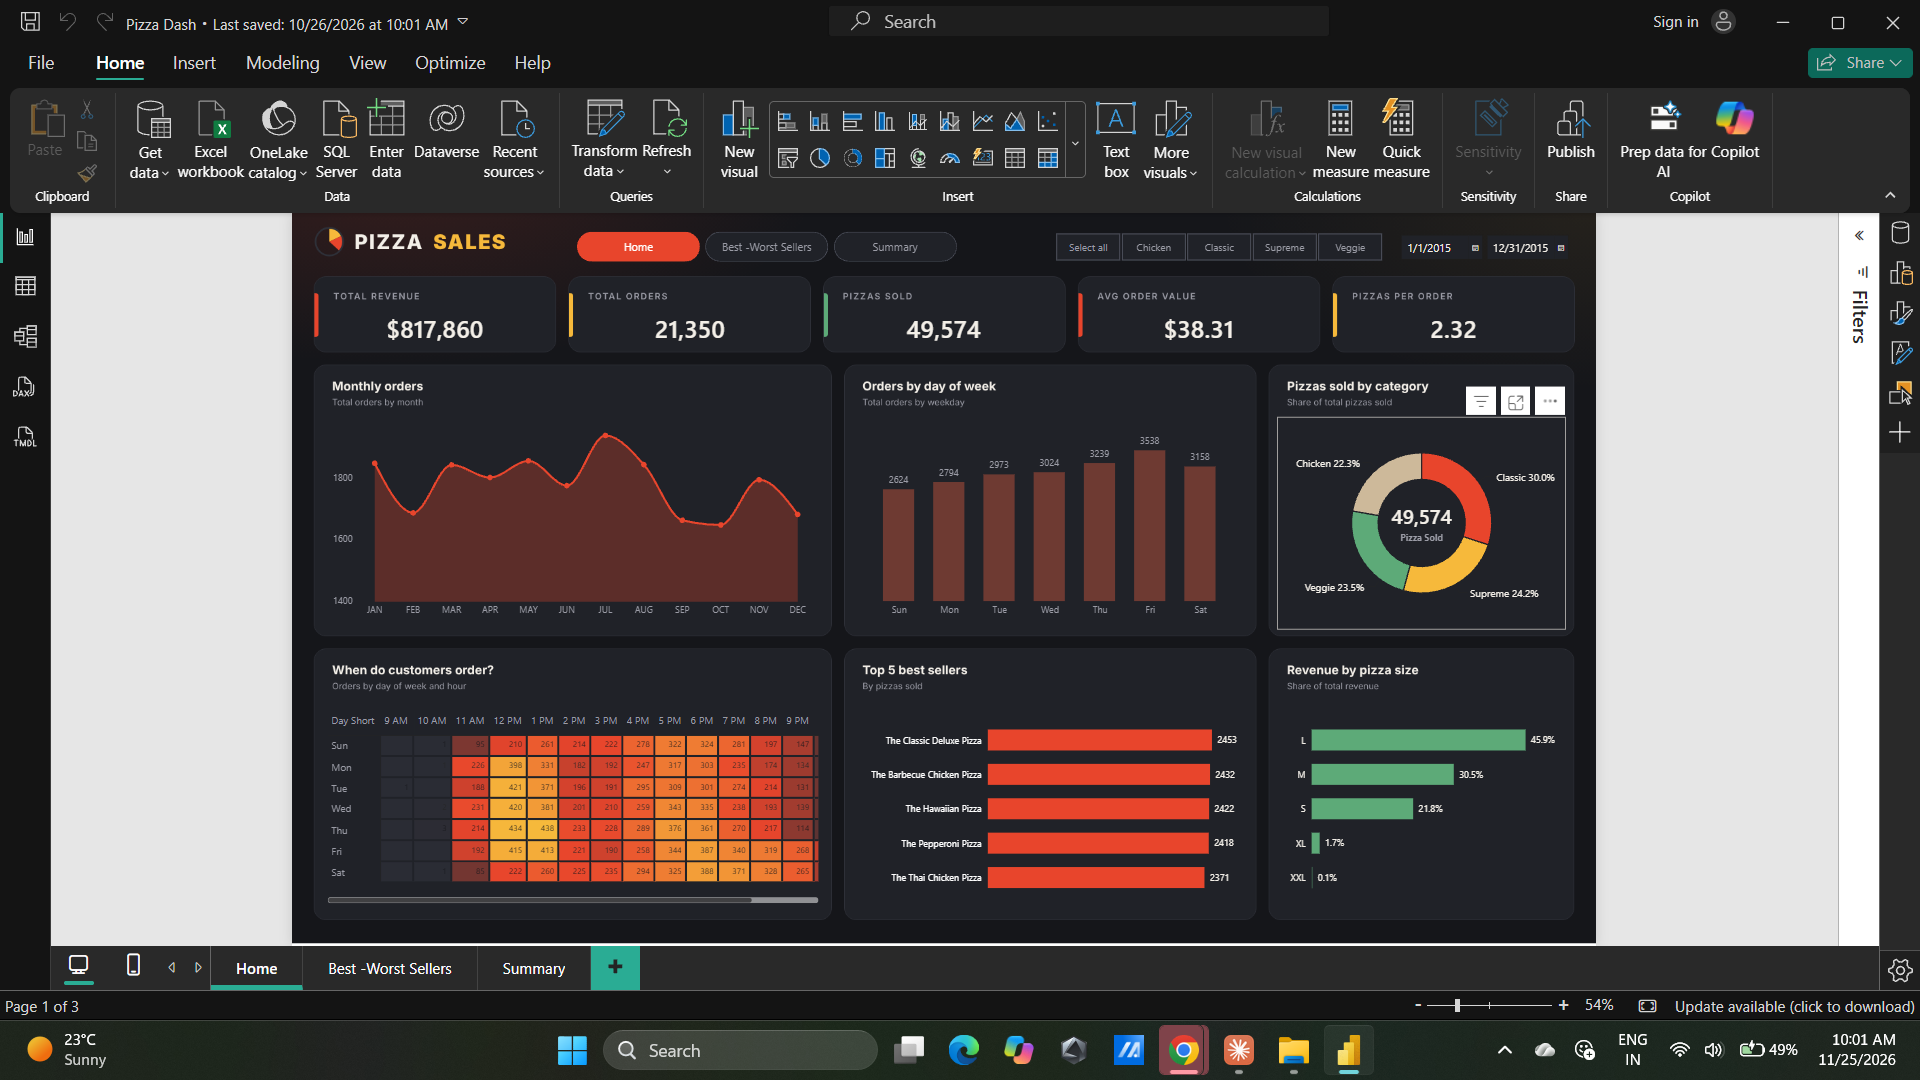

Layout of this report page (visuals, bound fields, positions):
{"tool":"powerbi","page":{"name":"Home ","canvas":[1920,1080],"ordinal":0},"visuals":[{"type":"donutChart","title":"Pizza Sold By Category ","fields":{"Category":["Dim_Pizza.pizza_category"],"Y":["Measure Table.Total Pizzas Sold"]},"box":[1450,300,426,314],"z":0},{"type":"clusteredBarChart","title":"Revenue By Pizza Size ","fields":{"Category":["Dim_Pizza.pizza_size"],"Y":["Measure Table.Revenue % of Total"]},"box":[1450,718,426,314],"z":1000},{"type":"card","fields":{"Values":["Measure Table.Total Revenue"]},"box":[46,136,329,68],"z":2000},{"type":"card","fields":{"Values":["Measure Table.Total Orders"]},"box":[421,136,329,68],"z":3000},{"type":"card","fields":{"Values":["Measure Table.Total Pizzas Sold"]},"box":[796,136,329,68],"z":4000},{"type":"card","fields":{"Values":["Measure Table.Avg Order Value"]},"box":[1171,136,329,68],"z":5000},{"type":"card","fields":{"Values":["Measure Table.Avg Pizzas per Order"]},"box":[1546,136,329,68],"z":6000},{"type":"areaChart","title":"Monthly orders ","fields":{"Category":["Dim_Date.Month Short"],"Y":["Measure Table.Total Orders"]},"box":[44,300,739,314],"z":7000},{"type":"clusteredBarChart","title":"Top 5 best sellers","fields":{"Category":["Dim_Pizza.pizza_name"],"Y":["Measure Table.Total Pizzas Sold"]},"box":[825,718,583,314],"z":8000},{"type":"clusteredColumnChart","fields":{"Category":["Dim_Date.Day Short "],"Y":["Measure Table.Total Orders"]},"box":[825,300,583,314],"z":9000},{"type":"pivotTable","fields":{"Columns":["Dim_Time.Hour label"],"Rows":["Dim_Date.Day Short "],"Values":["Measure Table.Total Orders"]},"box":[36.8,717.8,754.6,314.7],"z":10000},{"type":"slicer","fields":{"Values":["Dim_Pizza.pizza_category"]},"box":[1104.3,27.6,520,44],"z":10001},{"type":"slicer","fields":{"Values":["Dim_Date.order_date"]},"box":[1625.2,27.6,276.1,44.2],"z":10002},{"type":"pageNavigator","box":[420,28,560,44.2],"z":10003}]}

Visuals, with their boxes on the page's 1920x1080 design canvas (x1, y1, x2, y2). These are canvas units, not pixel positions in the 1920x1080 screenshot, which may show the page scaled, cropped or inside an application window:
"Pizza Sold By Category " donutChart: bbox=(1450, 300, 1876, 614)
"Revenue By Pizza Size " clusteredBarChart: bbox=(1450, 718, 1876, 1032)
card - Measure Table.Total Revenue: bbox=(46, 136, 375, 204)
card - Measure Table.Total Orders: bbox=(421, 136, 750, 204)
card - Measure Table.Total Pizzas Sold: bbox=(796, 136, 1125, 204)
card - Measure Table.Avg Order Value: bbox=(1171, 136, 1500, 204)
card - Measure Table.Avg Pizzas per Order: bbox=(1546, 136, 1875, 204)
"Monthly orders " areaChart: bbox=(44, 300, 783, 614)
"Top 5 best sellers" clusteredBarChart: bbox=(825, 718, 1408, 1032)
clusteredColumnChart - Dim_Date.Day Short  x Measure Table.Total Orders: bbox=(825, 300, 1408, 614)
pivotTable - Dim_Time.Hour label x Dim_Date.Day Short : bbox=(37, 718, 791, 1032)
slicer - Dim_Pizza.pizza_category: bbox=(1104, 28, 1624, 72)
slicer - Dim_Date.order_date: bbox=(1625, 28, 1901, 72)
pageNavigator: bbox=(420, 28, 980, 72)
